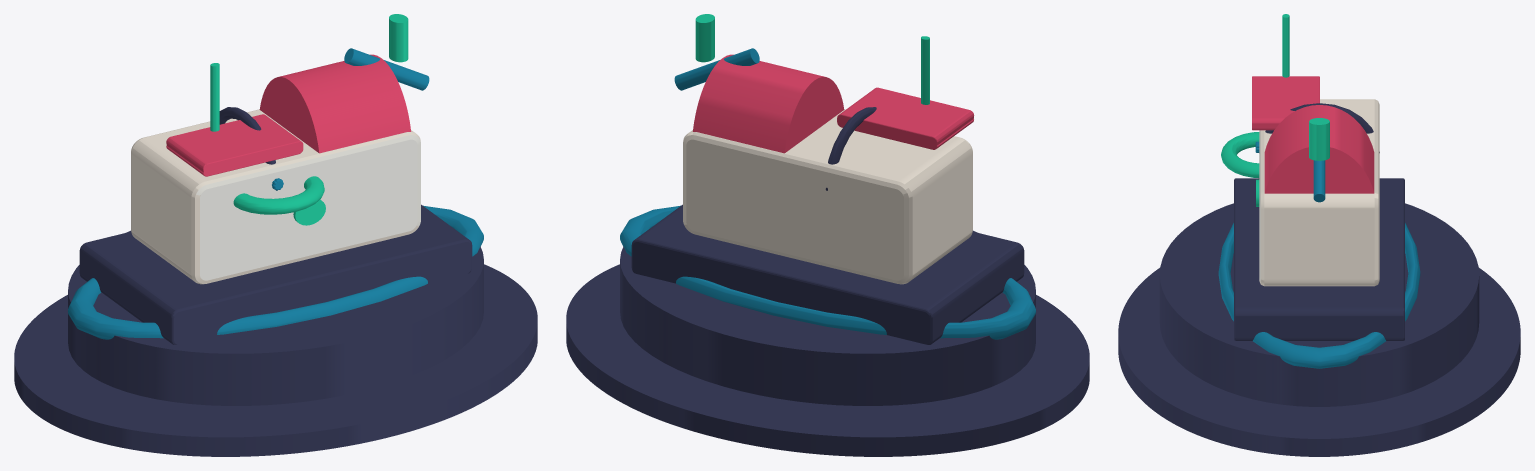
The model's file is 0454_机械图鉴_宋代云梯.glb.
The picture shows the model from 3 angles, left to right: view 1: azimuth 30°, elevation 25°; view 2: azimuth 150°, elevation 25°; view 3: azimuth 270°, elevation 25°; orthographic projection. The views are drawn at different scales.
Visible parts, largest first — view 1: card_0454; view 2: card_0454; view 3: card_0454.
Boxes of the visible parts, bbox=[...] form: card_0454: bbox=[14, 14, 537, 456]; card_0454: bbox=[566, 14, 1089, 456]; card_0454: bbox=[1118, 14, 1520, 456].
Size of the model in its own units: 1.53 by 1 by 1.22.
